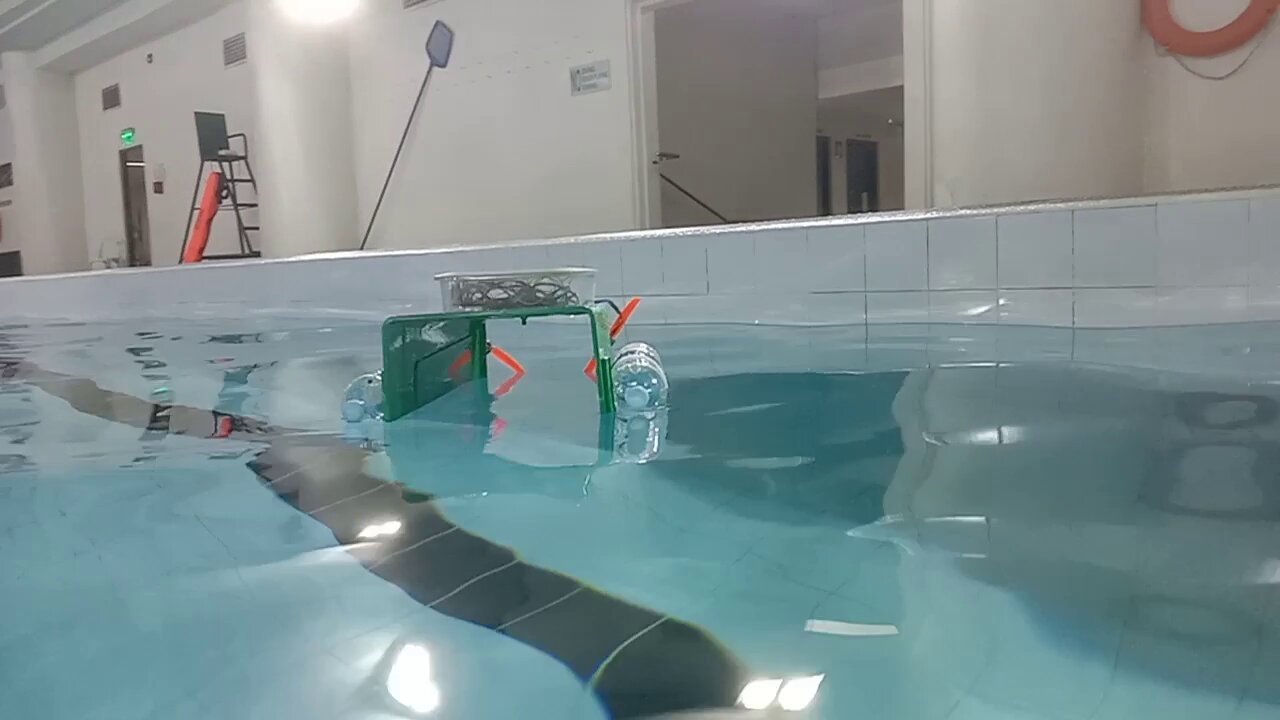drone: (337, 265, 670, 426)
